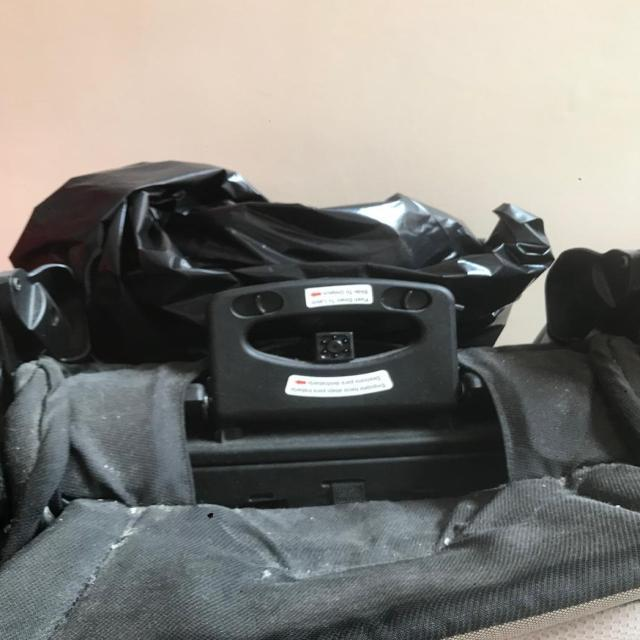hidden camera: (327, 341, 342, 352)
